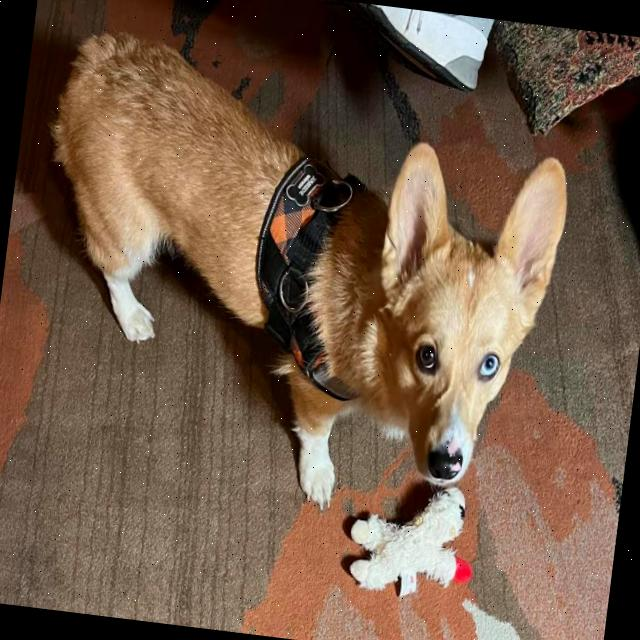corgi_dog: (344, 128, 580, 510)
